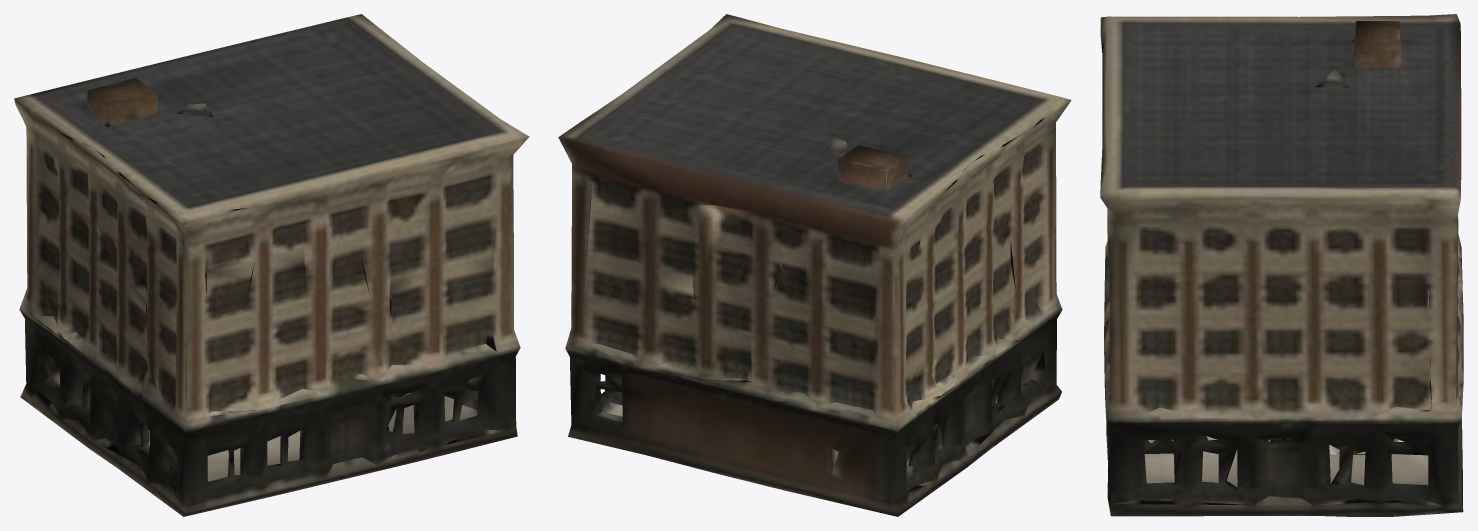
The model's file is gen_low2_loft.glb.
The picture shows the model from 3 angles, left to right: view 1: azimuth 30°, elevation 25°; view 2: azimuth 150°, elevation 25°; view 3: azimuth 270°, elevation 25°; orthographic projection. The views are drawn at different scales.
Visible parts, largest first — view 1: gen_low2_loft; view 2: gen_low2_loft; view 3: gen_low2_loft.
Part boxes in pixels (left/top/right/bottom): gen_low2_loft: left=14, top=14, right=529, bottom=516; gen_low2_loft: left=558, top=14, right=1071, bottom=516; gen_low2_loft: left=1100, top=14, right=1463, bottom=516.
Bounding box in the file's own units: 25 × 22 × 21.07.
Materials: 1 (1 with a texture image).
